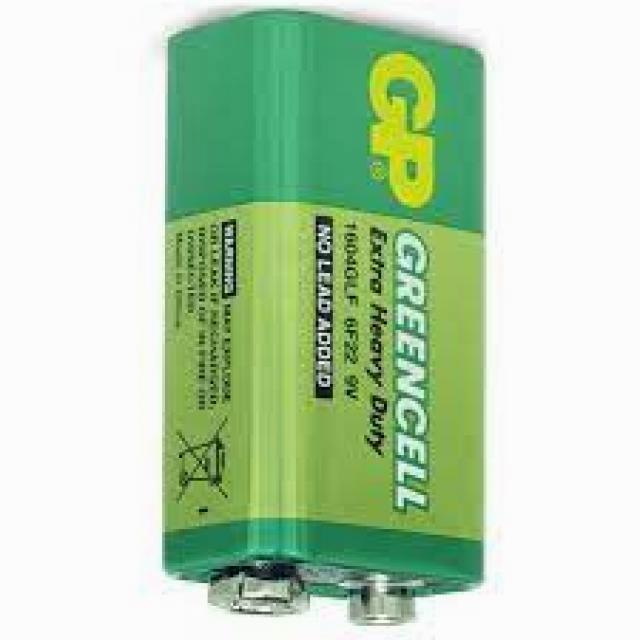battery: (162, 11, 487, 627)
